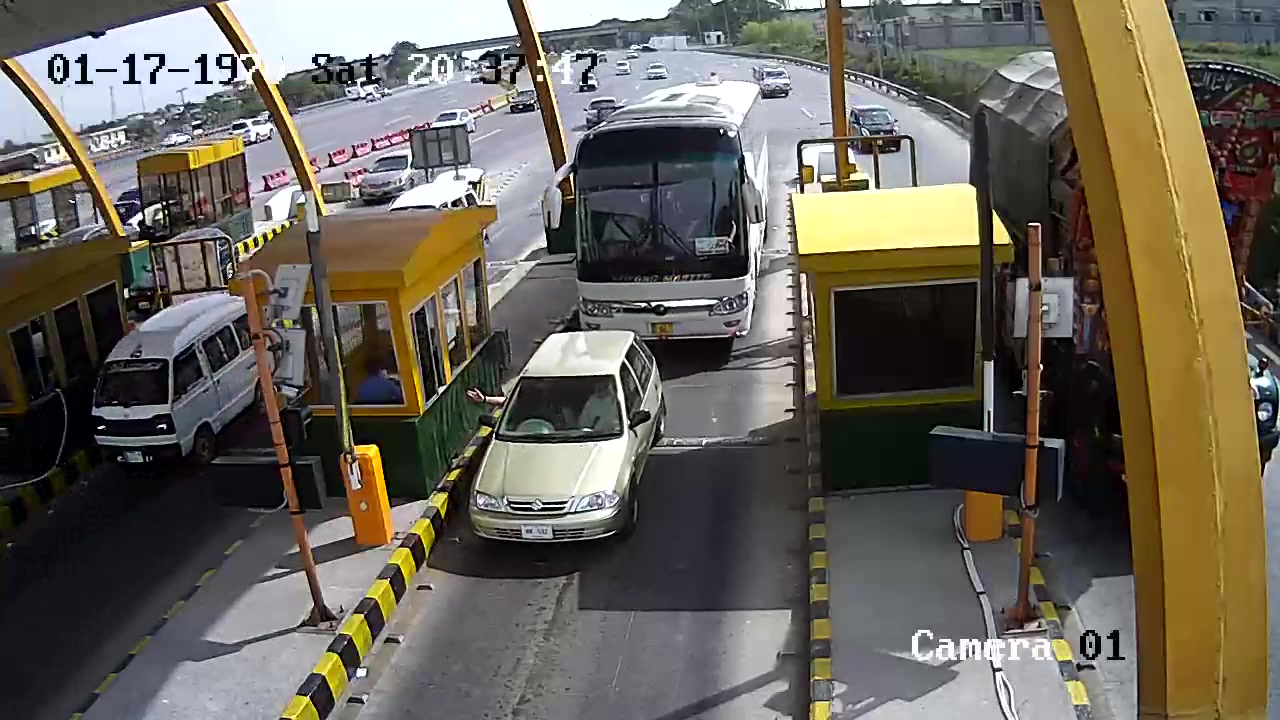F1: (469, 331, 677, 574)
F4: (538, 65, 772, 348)
